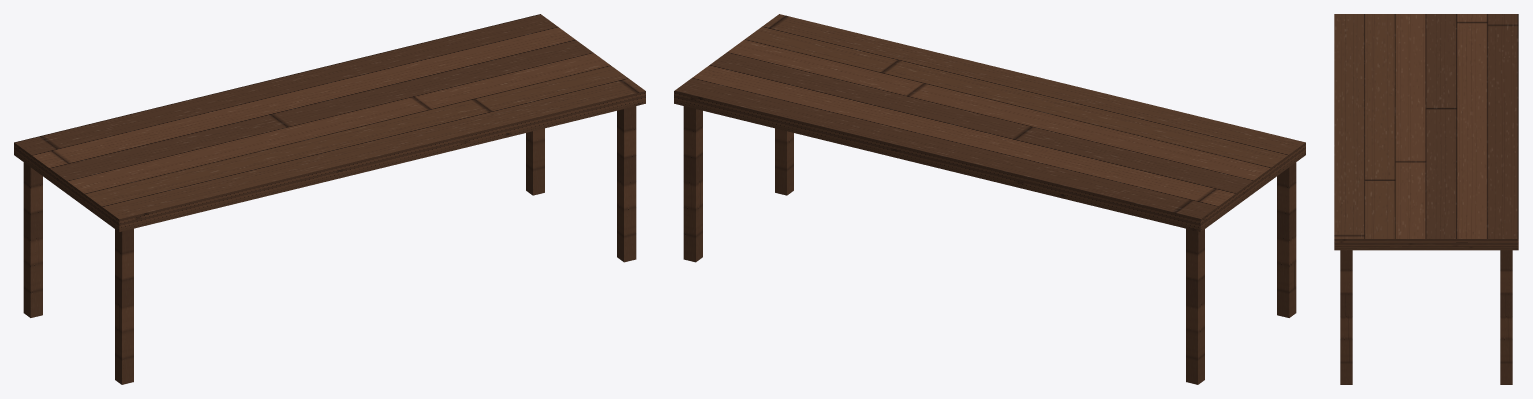
File: lab-bench.glb
The picture shows the model from 3 angles, left to right: view 1: azimuth 30°, elevation 25°; view 2: azimuth 150°, elevation 25°; view 3: azimuth 270°, elevation 25°; orthographic projection. The views are drawn at different scales.
Visible parts, largest first — view 1: lab-bench; view 2: lab-bench; view 3: lab-bench.
Part boxes in pixels (left/top/right/bottom): lab-bench: left=14, top=14, right=645, bottom=384; lab-bench: left=674, top=14, right=1305, bottom=384; lab-bench: left=1334, top=14, right=1518, bottom=384.
Bounding box in the file's own units: 2.6 × 0.8 × 0.9.
Materials: 5 (5 with a texture image).
